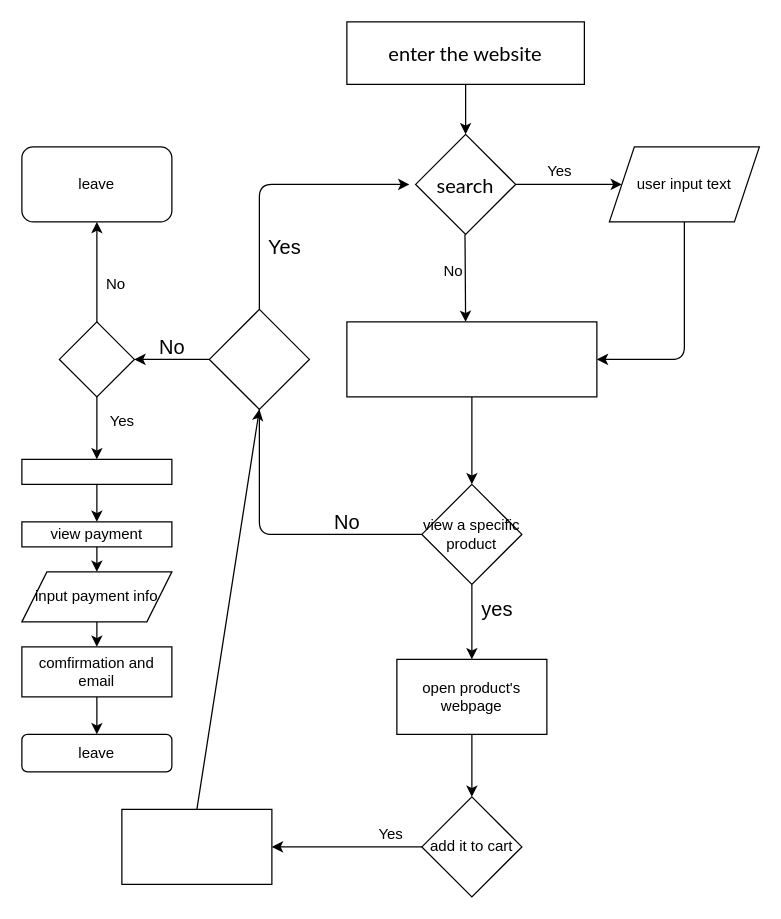
Image size: 781x919. Some labels were removed from this diagram. Here are the shapes that lost their labels. From the top down, the centre of each, then its label:
pixel 96 359: checkout?
pixel 258 358: continue shopping
pixel 471 359: looking over the products
pixel 96 471: view cart
pixel 196 846: recieve comfirmation
